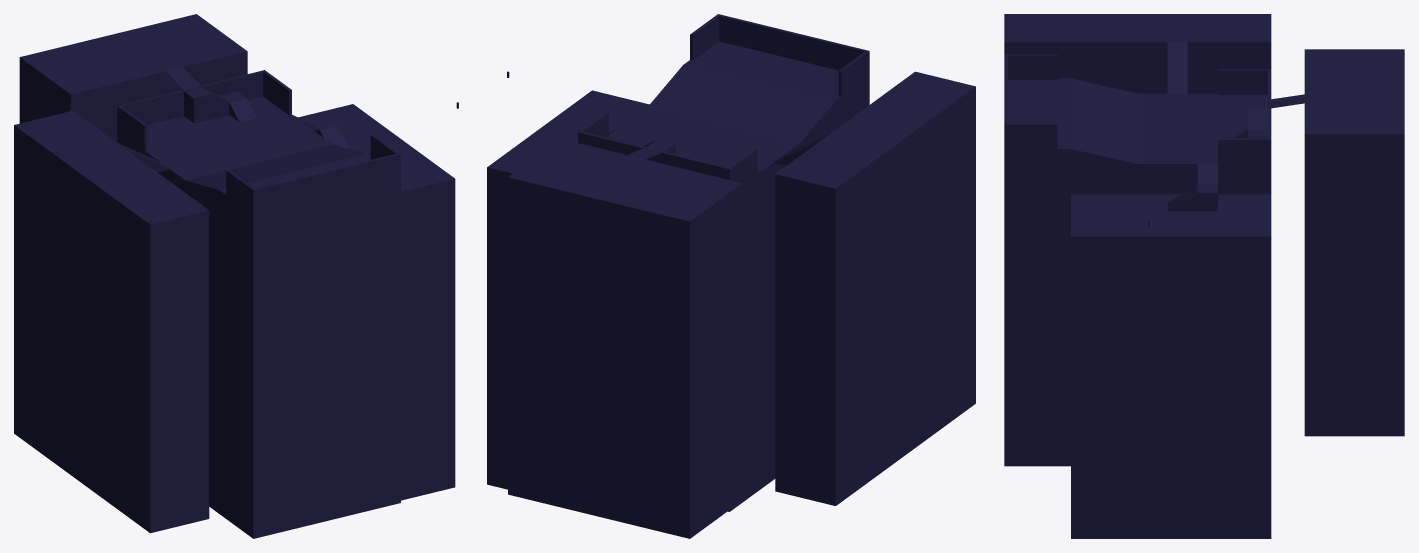
The model's file is ashes_of_the_damned_map.glb.
3 views of the same model, side by side, from view 1: azimuth 30°, elevation 25°; view 2: azimuth 150°, elevation 25°; view 3: azimuth 270°, elevation 25° (orthographic). The views are drawn at different scales.
Parts seen in each view (by area): view 1: Cube, Cube.003, Cube.002, Cube.001, Cube.006, Cube.004, Cube.005, Cube.009, Cube.015, Cube.013, Cube.014, Cube.008; view 2: Cube.001, Cube.003, Cube, Cube.002, Cube.005, Cube.004, Cube.006, Cube.009, Cube.007, Cube.008, Cube.014; view 3: Cube.002, Cube.001, Cube, Cube.003, Cube.005, Cube.004, Cube.007, Cube.008, Cube.013, Cube.014, Cube.017, Cube.020 (+1 smaller).
Boxes of the visible parts, bbox=[...] form: Cube: bbox=[117, 96, 400, 538]; Cube.003: bbox=[14, 110, 209, 533]; Cube.002: bbox=[298, 104, 455, 500]; Cube.001: bbox=[19, 14, 247, 142]; Cube.006: bbox=[251, 153, 400, 214]; Cube.004: bbox=[219, 154, 400, 230]; Cube.005: bbox=[185, 144, 365, 204]; Cube.009: bbox=[117, 70, 265, 131]; Cube.015: bbox=[184, 87, 211, 123]; Cube.013: bbox=[263, 71, 291, 115]; Cube.014: bbox=[119, 106, 147, 150]; Cube.008: bbox=[226, 169, 254, 213]; Cube.001: bbox=[508, 139, 742, 538]; Cube.003: bbox=[775, 71, 975, 505]; Cube: bbox=[609, 92, 869, 511]; Cube.002: bbox=[487, 90, 649, 489]; Cube.005: bbox=[648, 65, 834, 143]; Cube.004: bbox=[683, 41, 869, 117]; Cube.006: bbox=[717, 14, 869, 77]; Cube.009: bbox=[578, 131, 731, 180]; Cube.007: bbox=[690, 15, 719, 60]; Cube.008: bbox=[838, 51, 867, 96]; Cube.014: bbox=[729, 148, 757, 184]; Cube.002: bbox=[1071, 194, 1271, 538]; Cube.001: bbox=[1304, 49, 1404, 436]; Cube: bbox=[1004, 93, 1271, 466]; Cube.003: bbox=[1004, 14, 1271, 93]; Cube.005: bbox=[1071, 78, 1137, 163]; Cube.004: bbox=[1004, 78, 1070, 163]; Cube.007: bbox=[1007, 123, 1057, 148]; Cube.008: bbox=[1007, 54, 1057, 79]; Cube.013: bbox=[1218, 138, 1267, 163]; Cube.014: bbox=[1218, 69, 1267, 94]; Cube.017: bbox=[1167, 42, 1187, 93]; Cube.020: bbox=[1197, 184, 1217, 211].
Size of the model in its own units: 130 by 123 by 120.
